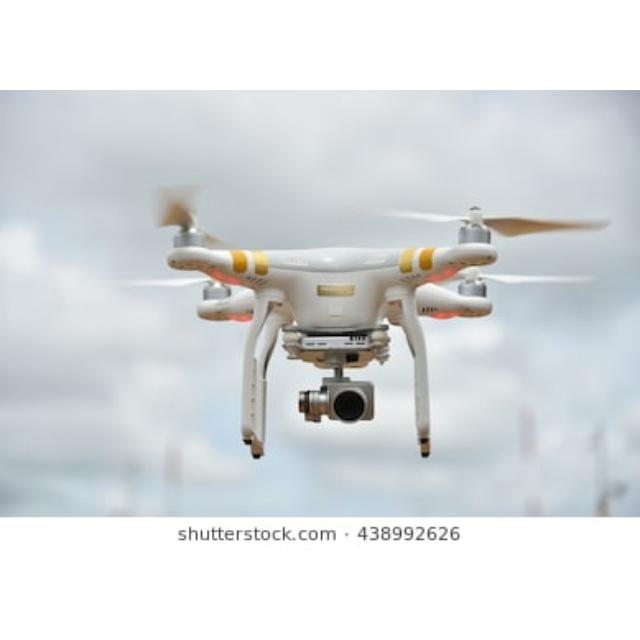Drones: (157, 208, 557, 464)
